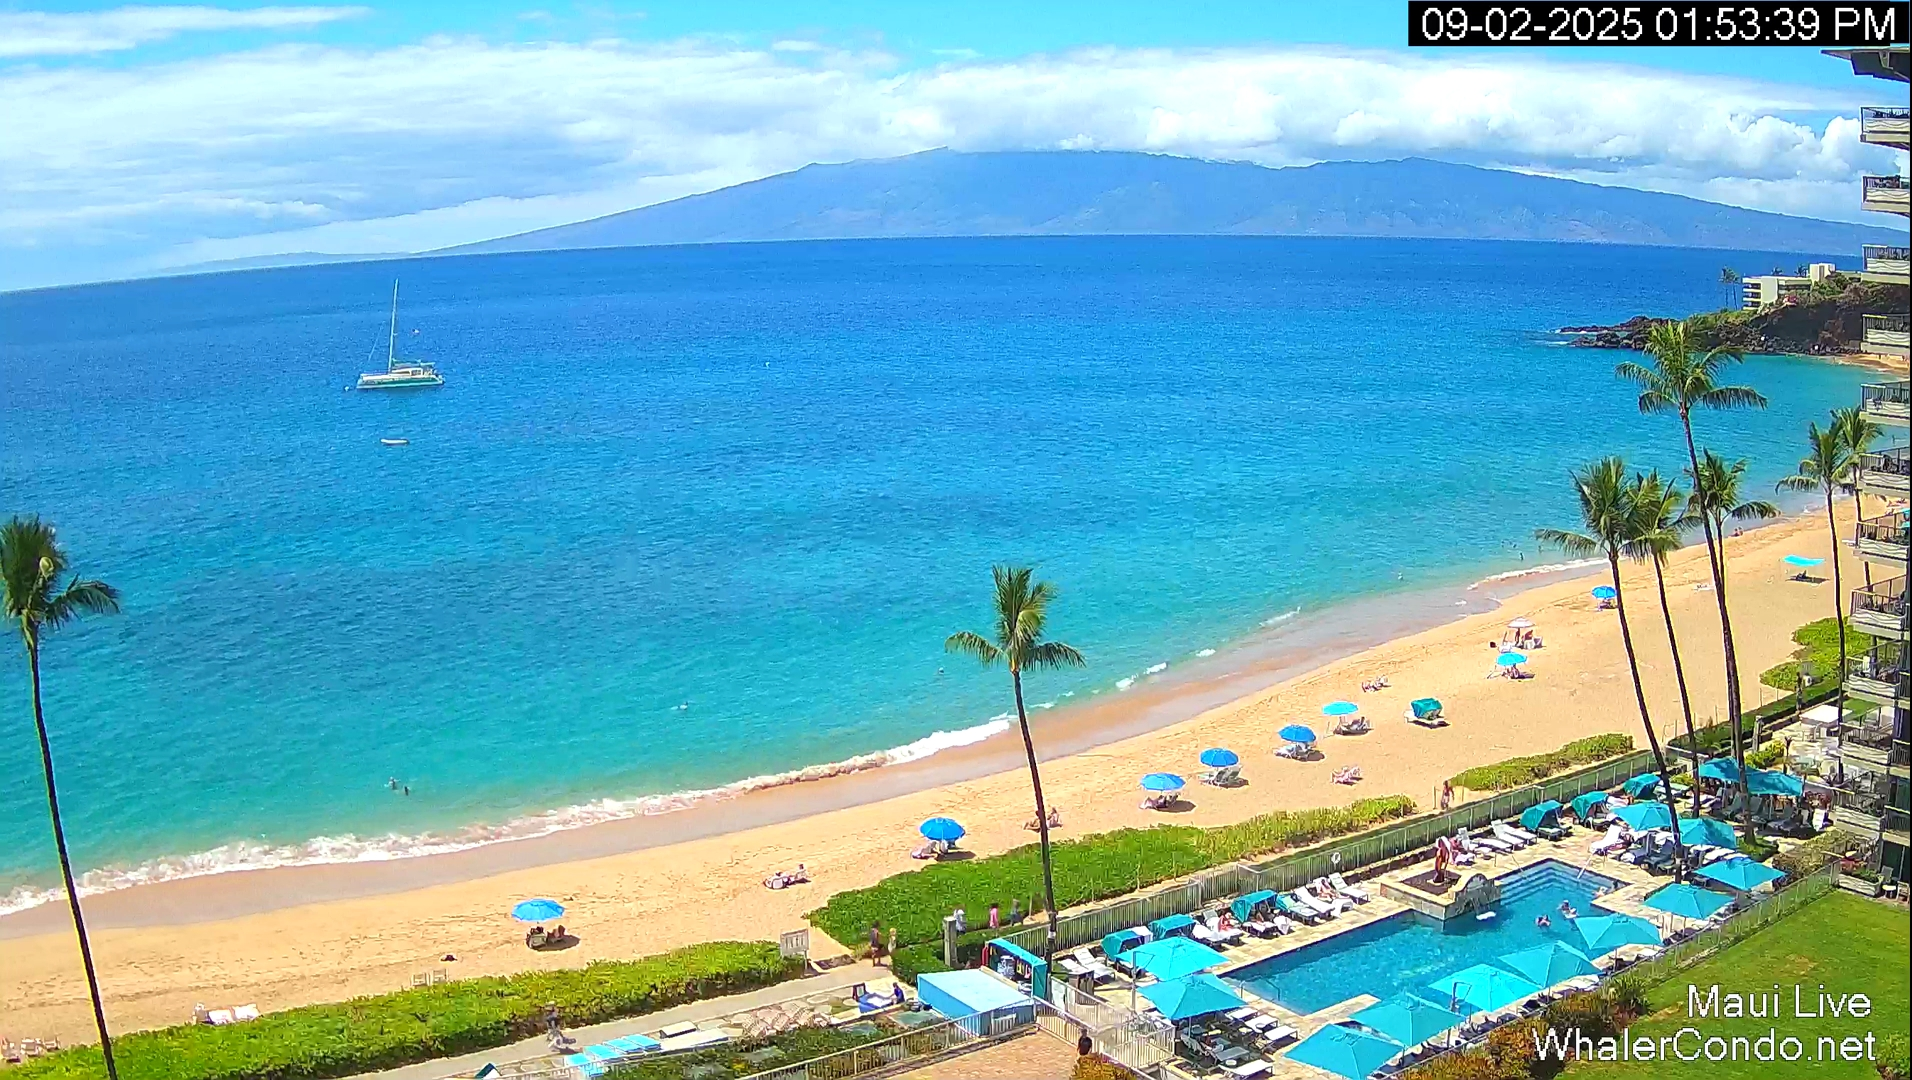boat: (356, 278, 445, 390), (1100, 921, 1152, 975), (525, 933, 581, 952), (1501, 617, 1543, 640)
person: (869, 922, 885, 967), (1076, 1028, 1092, 1057), (953, 907, 967, 934), (890, 982, 906, 1005), (547, 925, 566, 943), (1046, 807, 1062, 826), (1441, 781, 1450, 810), (989, 903, 999, 929), (794, 864, 808, 880), (557, 925, 567, 938), (404, 786, 410, 796)
